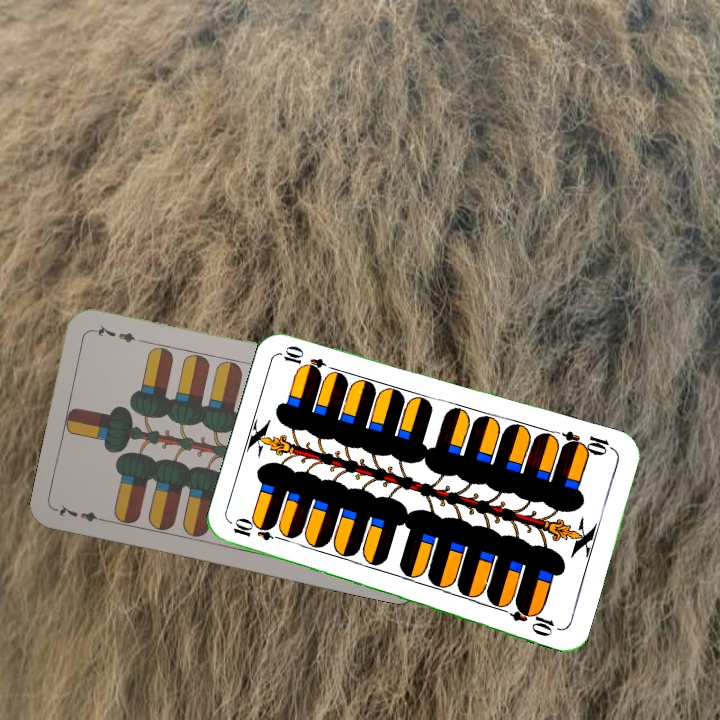E10: (558, 426, 617, 459), (229, 517, 288, 544)
E7: (53, 501, 112, 526)
